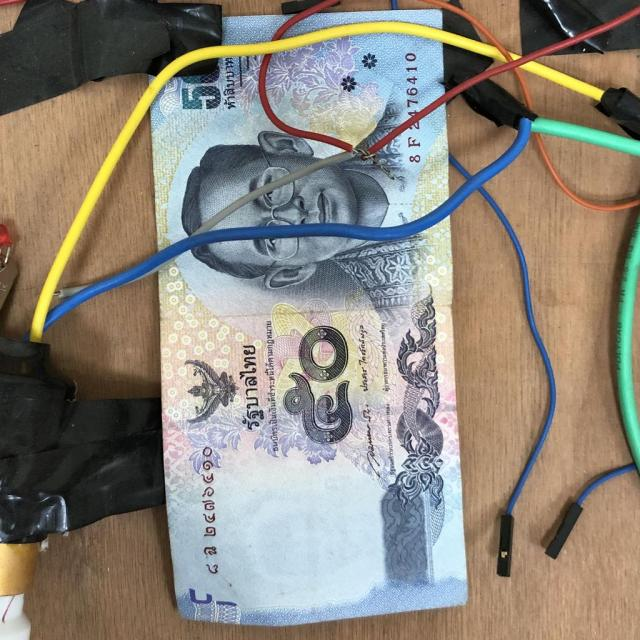THAI50: (158, 221, 467, 625), (151, 56, 341, 248), (216, 106, 448, 229), (268, 34, 444, 146), (285, 9, 442, 38), (222, 16, 291, 44)
